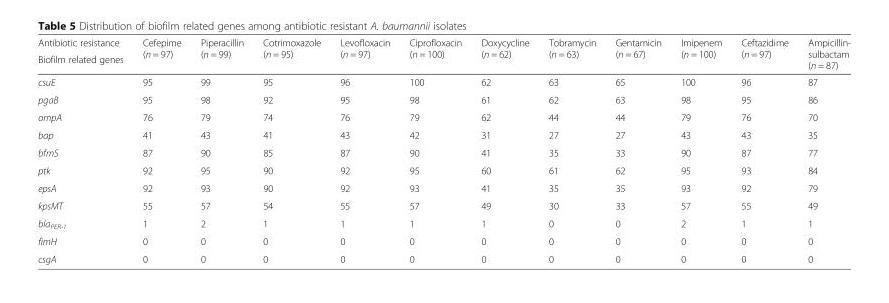table: (38, 36, 851, 264)
table column: (38, 36, 133, 264), (253, 36, 330, 264), (400, 36, 471, 264), (330, 36, 400, 264), (471, 36, 539, 264), (539, 36, 606, 264), (731, 36, 798, 264), (606, 36, 671, 264), (191, 36, 253, 264), (671, 36, 731, 264), (133, 36, 191, 264), (798, 36, 851, 264)
table column header: (38, 36, 851, 73)
table row: (38, 50, 851, 73), (38, 90, 851, 108), (38, 125, 851, 143), (38, 143, 851, 161), (38, 178, 851, 196), (38, 196, 851, 214), (38, 214, 851, 232), (38, 73, 851, 90), (38, 108, 851, 125), (38, 161, 851, 178), (38, 232, 851, 249), (38, 249, 851, 264), (38, 36, 851, 50)
table spanning cell: (38, 36, 133, 73), (253, 36, 330, 73), (400, 36, 471, 73), (330, 36, 400, 73), (471, 36, 539, 73), (539, 36, 606, 73), (731, 36, 798, 73), (606, 36, 671, 73), (191, 36, 253, 73), (671, 36, 731, 73), (133, 36, 191, 73), (798, 36, 851, 73)
